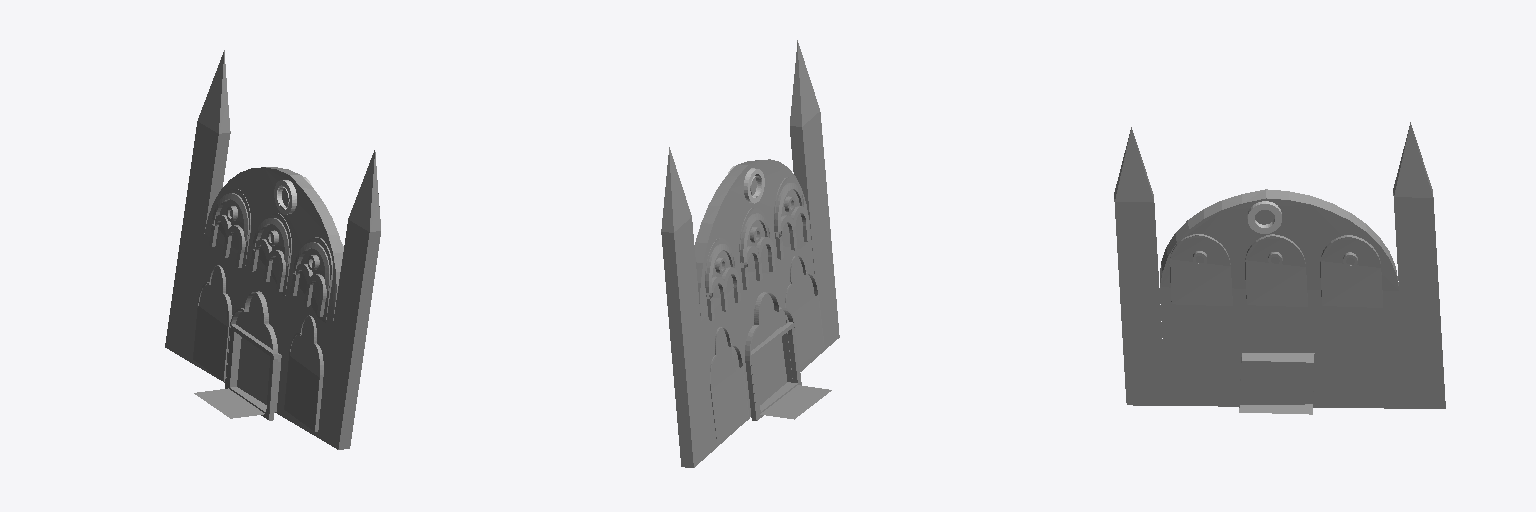
File: GATE.obj
3 renders of one model, left to right at view 1: azimuth 30°, elevation 25°; view 2: azimuth 150°, elevation 25°; view 3: azimuth 270°, elevation 25°, orthographic.
Visible parts, largest first — view 1: blck.001_Cube.004, Circle; view 2: blck.001_Cube.004, Circle; view 3: blck.001_Cube.004, Circle.
Boxes of the visible parts, x1,y1,x2,y2 form: blck.001_Cube.004: [165, 50, 380, 449]; Circle: [274, 177, 311, 214]; blck.001_Cube.004: [661, 40, 839, 467]; Circle: [728, 166, 764, 203]; blck.001_Cube.004: [1114, 122, 1445, 414]; Circle: [1247, 201, 1281, 233].
Size of the model in its own units: 8.72 by 28.08 by 27.9.